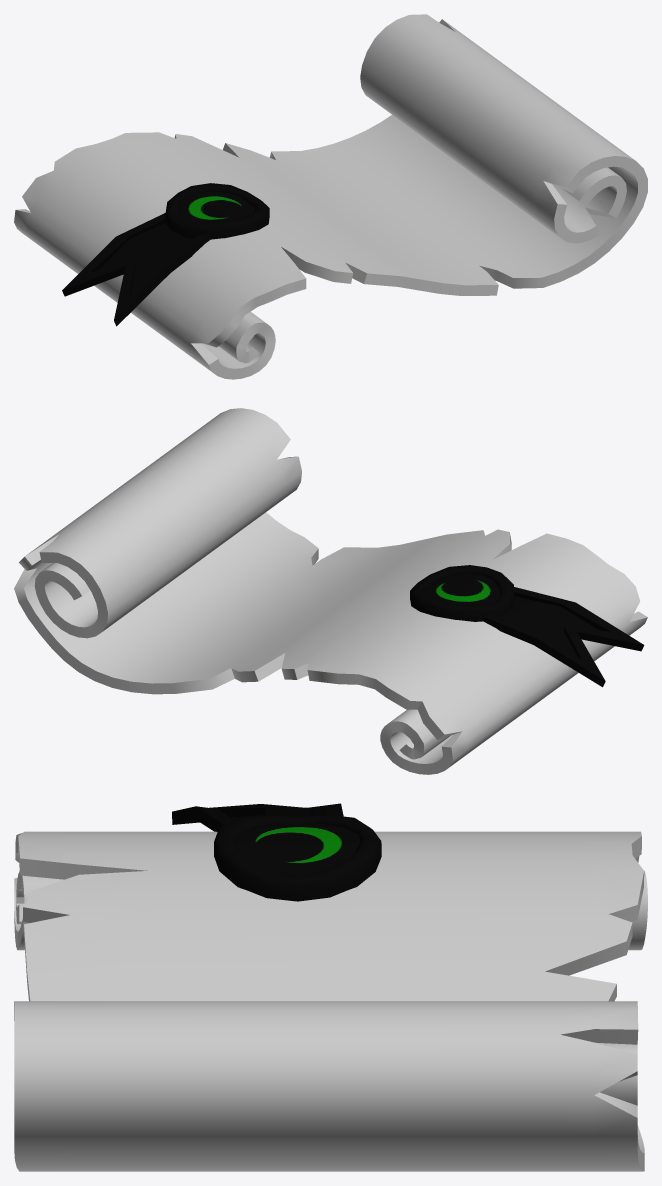
File: Xarita.fbx
The picture shows the model from 3 angles, top to bottom: view 1: azimuth 30°, elevation 25°; view 2: azimuth 150°, elevation 25°; view 3: azimuth 270°, elevation 25°; orthographic projection. The views are drawn at different scales.
Visible parts, largest first — view 1: Treasure Map; view 2: Treasure Map; view 3: Treasure Map.
Boxes of the visible parts, x1,y1,x2,y2 form: Treasure Map: [14, 14, 647, 379]; Treasure Map: [14, 408, 647, 774]; Treasure Map: [14, 803, 647, 1171].
Size of the model in its own units: 342 by 88.4 by 239.
